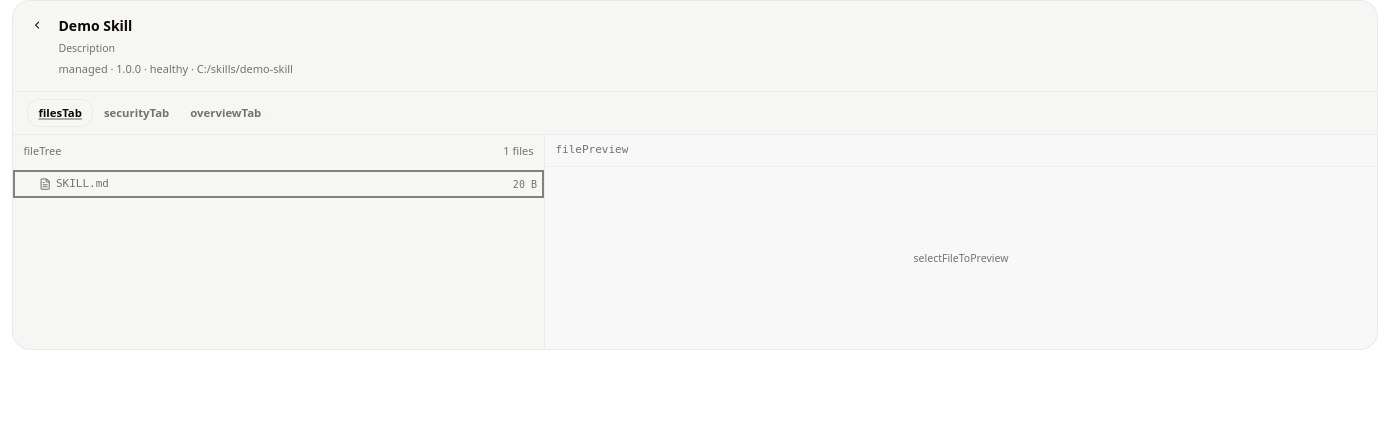
lazy Skill file details › loads the real scan summary and offline privacy contract only after Security is opened
Press the mouse on the tab "securityTab": (137, 113) [93,99,180,127]
Press the mouse on the tab "securityTab": (137, 113) [93,99,180,127]
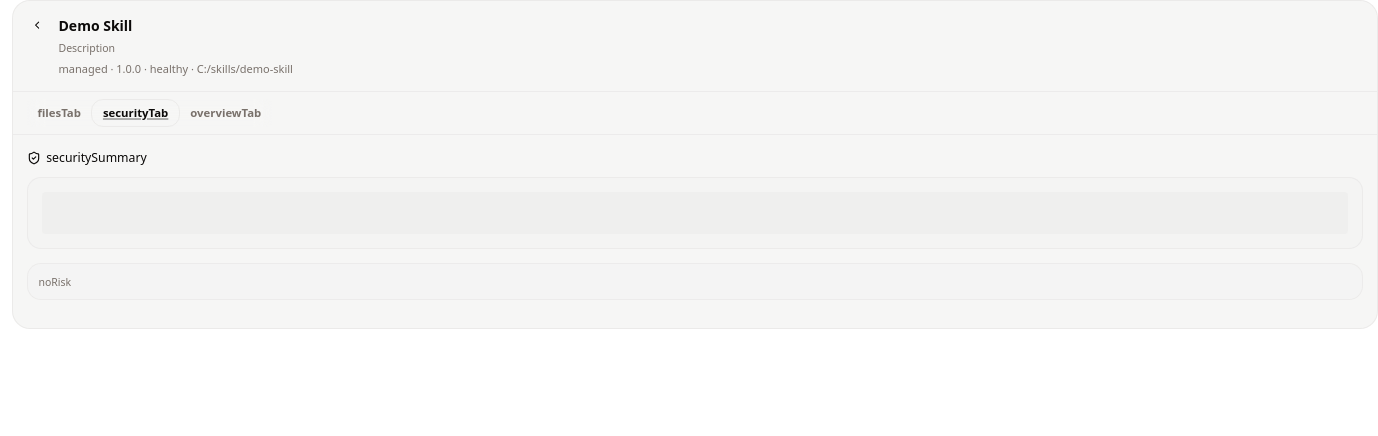
Click the tab "securityTab": click(136, 113) [91,99,180,127]
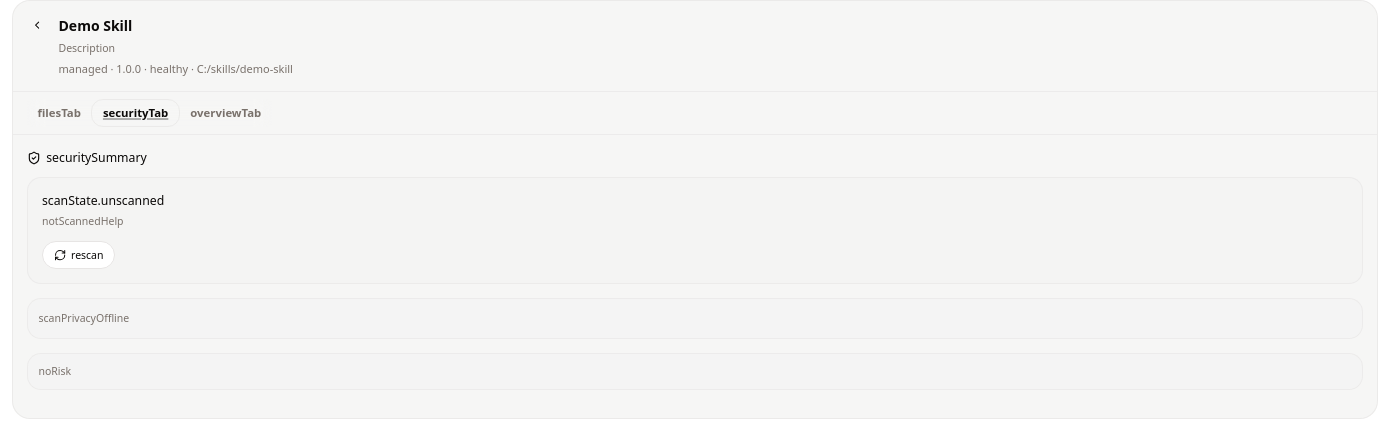
Check: the text "scanState.unscanned" is shown, box [42,192,164,209]
Check: the text "notScannedHelp" is shown, box [42,214,124,228]
Check: the text "scanPrivacyOffline" is shown, box [27,298,1363,338]
